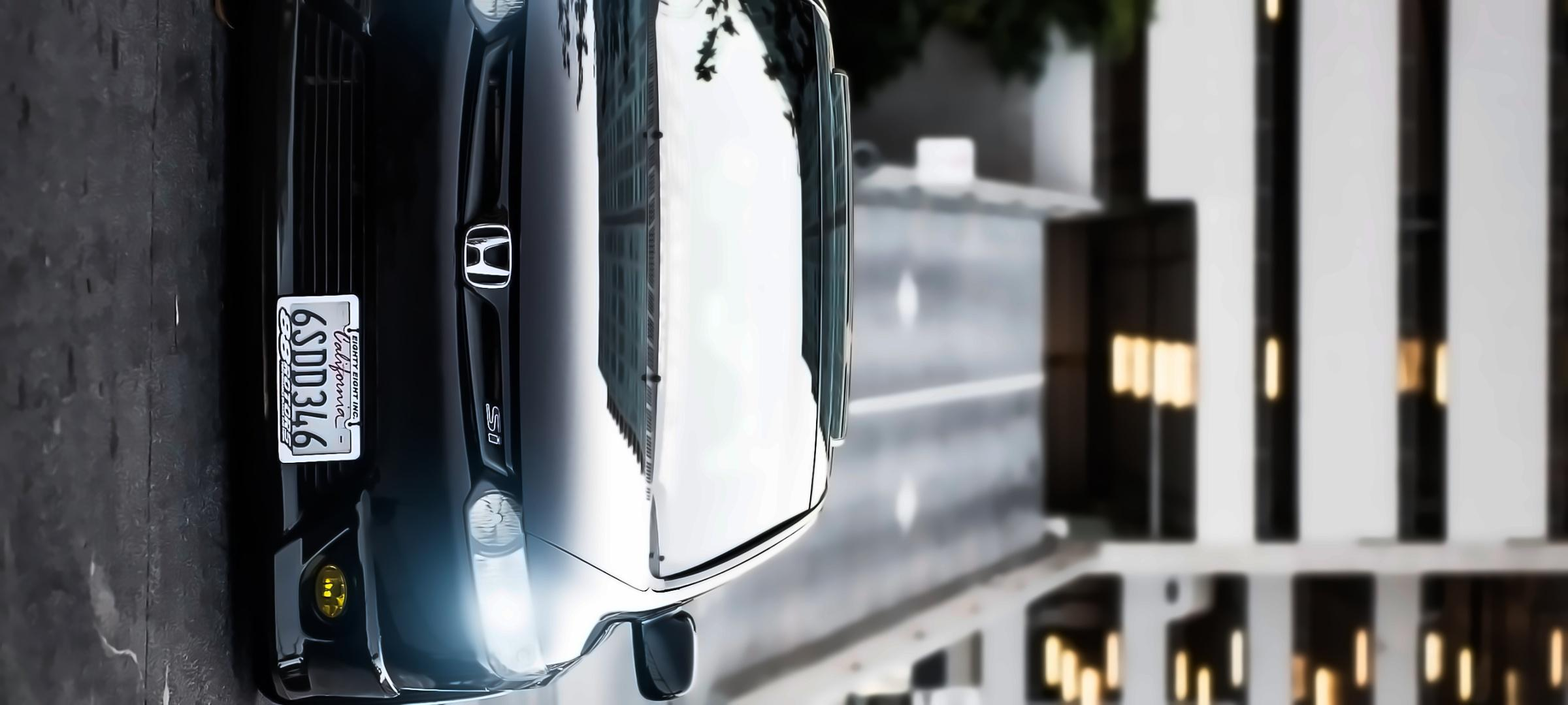Car hood: (516, 3, 666, 586)
Front bumper: (209, 0, 460, 705)
Headlight - -L-: (444, 460, 559, 693)
Headlight - -R-: (454, 0, 545, 57)
Side mirror - -L-: (617, 584, 712, 705)
